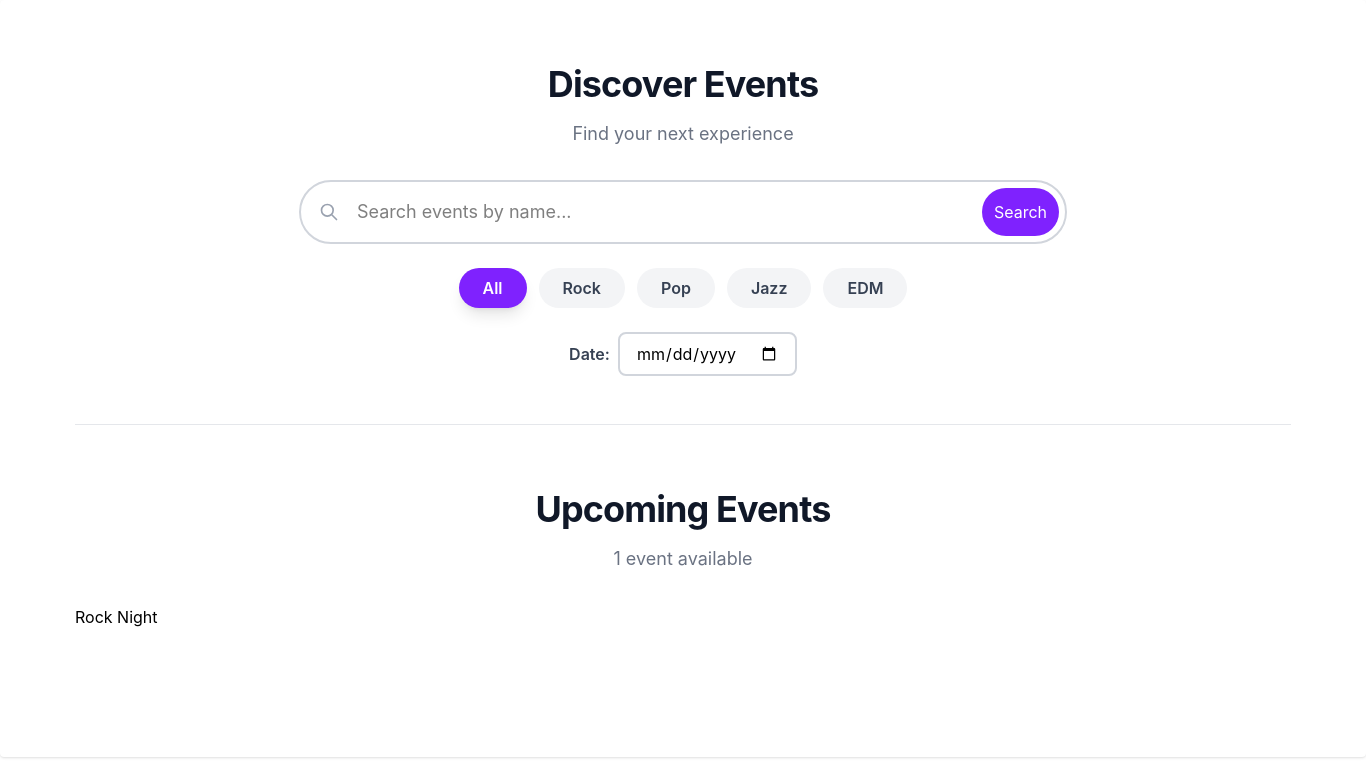
Test case: product-page.vue (event list) › shows "No events found" when the filters match nothing
Type "opera" into the field with placeholder "Search events by name..." at (683, 212), box [299, 180, 1067, 244]
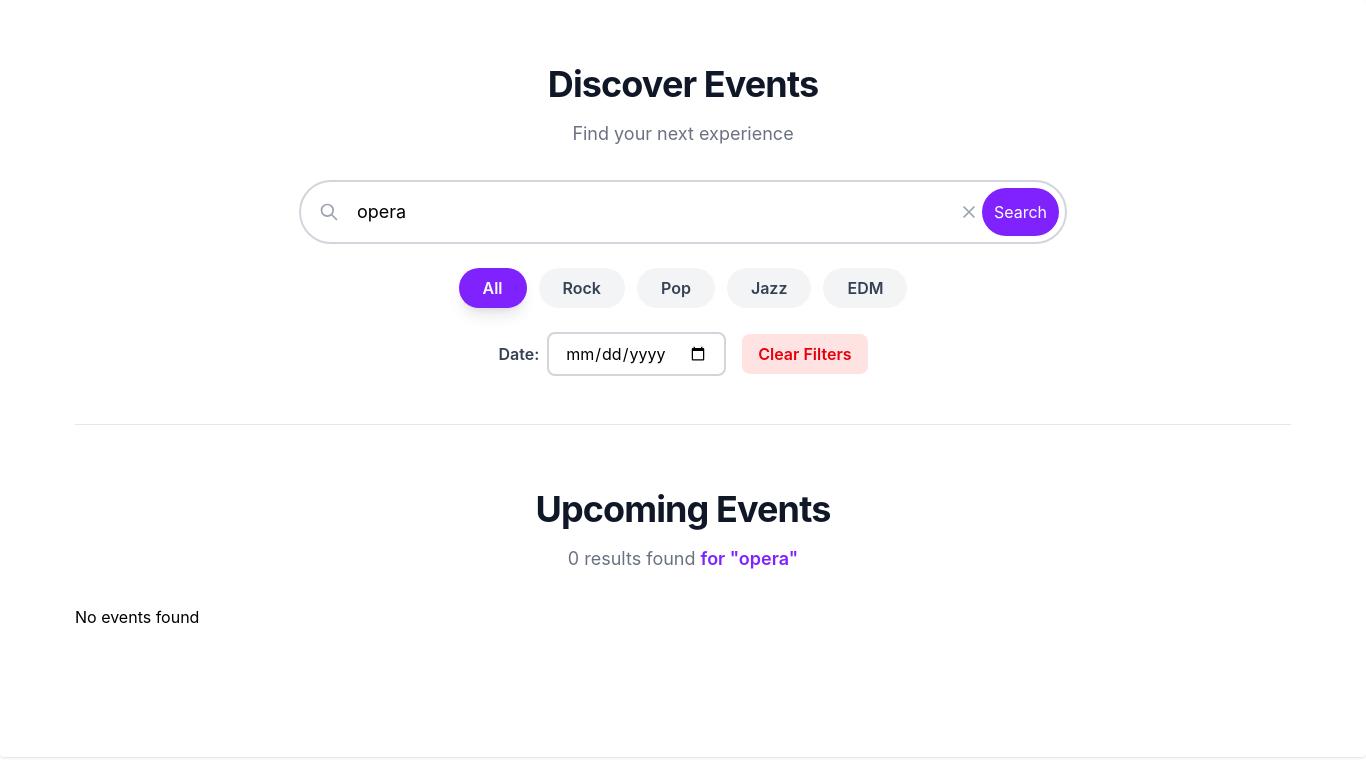
Expected: the text with class "empty" reads "No events found", [75, 607, 199, 627]
